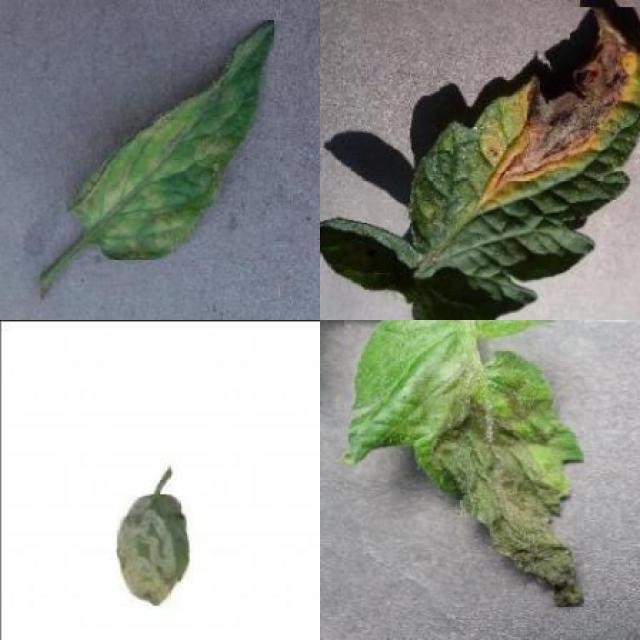Early Blight: (320, 7, 640, 320)
Late Blight: (345, 320, 585, 607)
Leaf Miner: (116, 495, 188, 605)
Leaf Mold: (66, 21, 274, 260)
